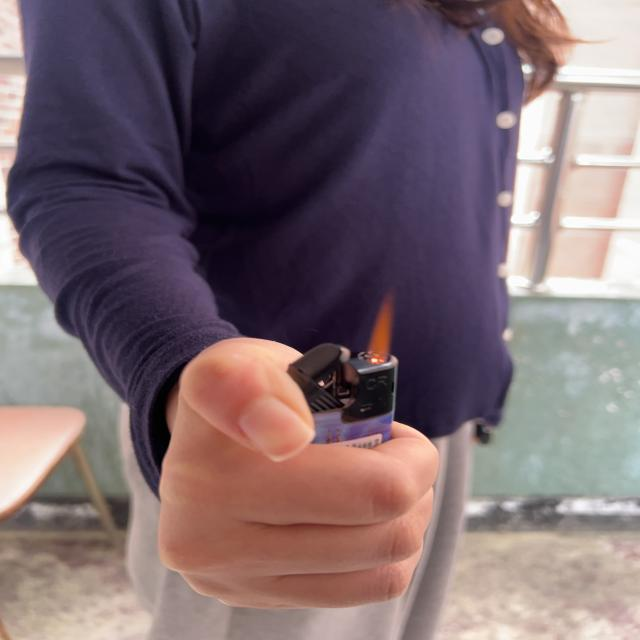fire: (363, 286, 396, 366)
